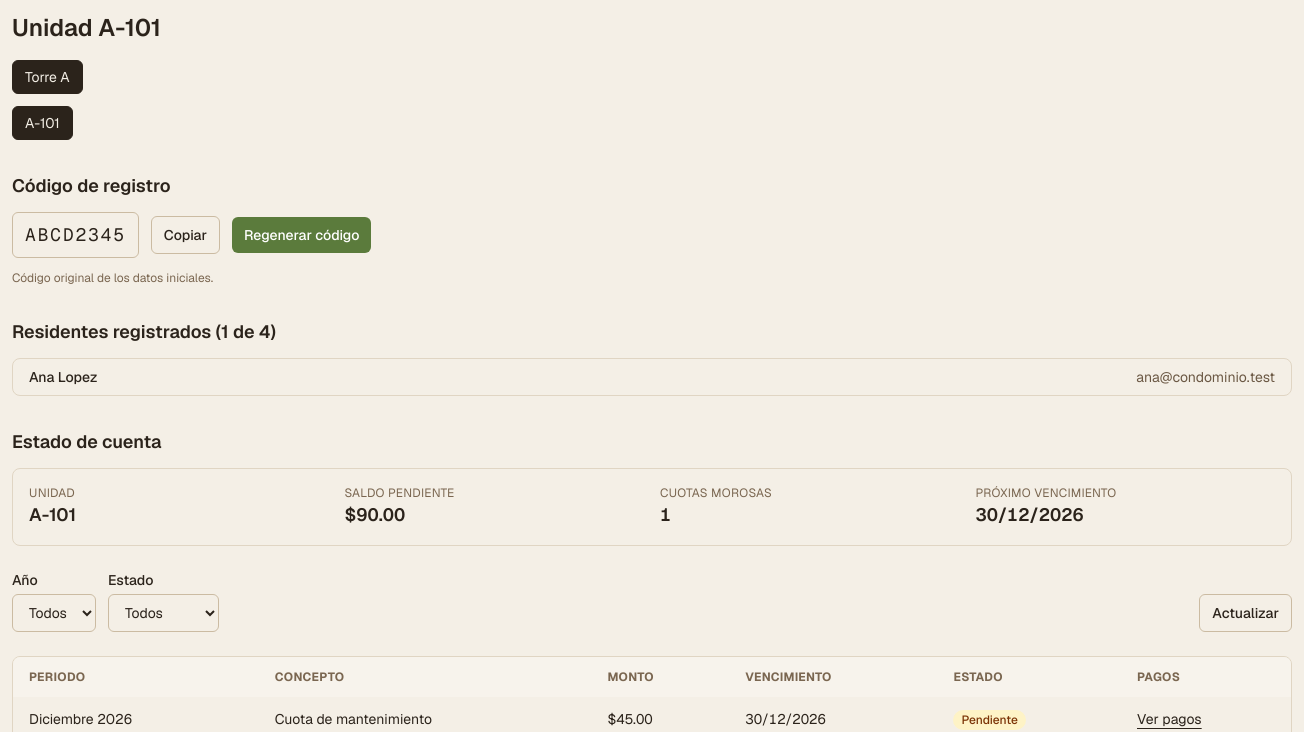
H2. Estado de cuenta de la unidad › AC6: al confirmar muestra el código nuevo con el botón Copiar
Click the button "Regenerar código".
click(302, 235)  # box left=232, top=217, right=372, bottom=253
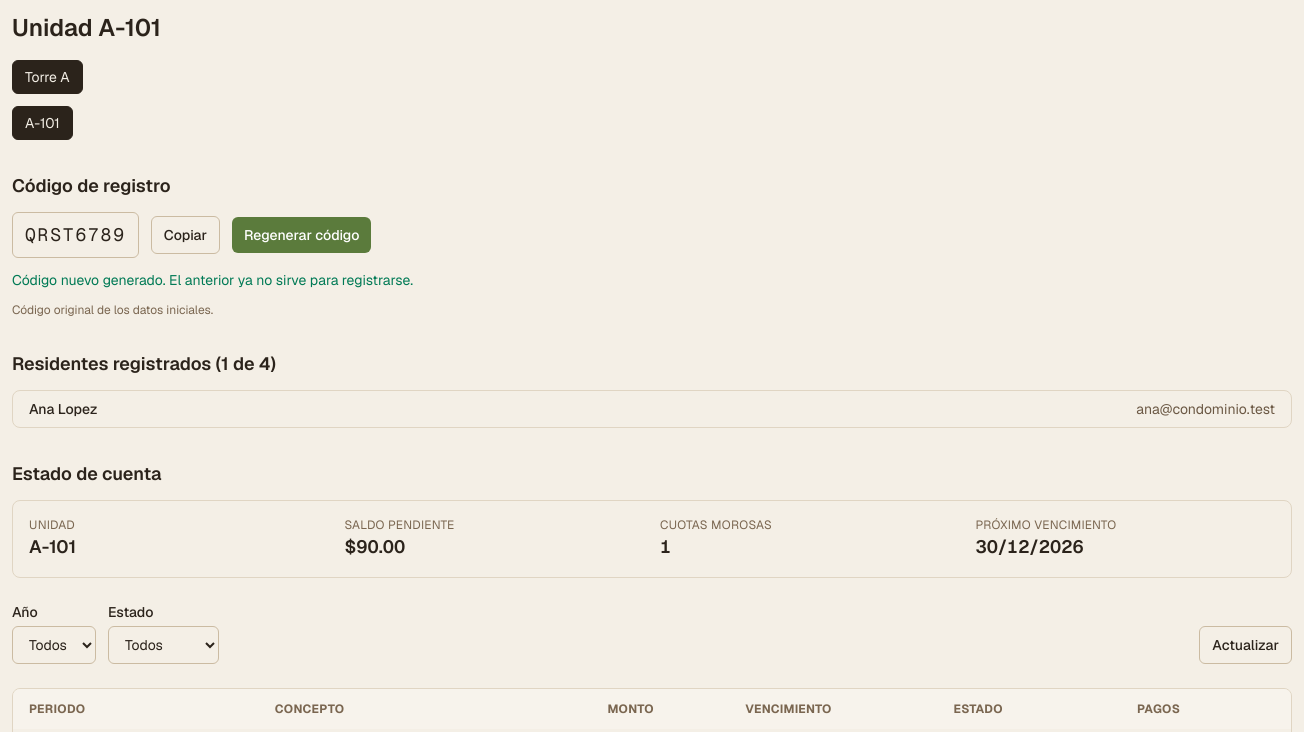
Click the button "Copiar".
click(185, 235)  # box left=151, top=216, right=220, bottom=254
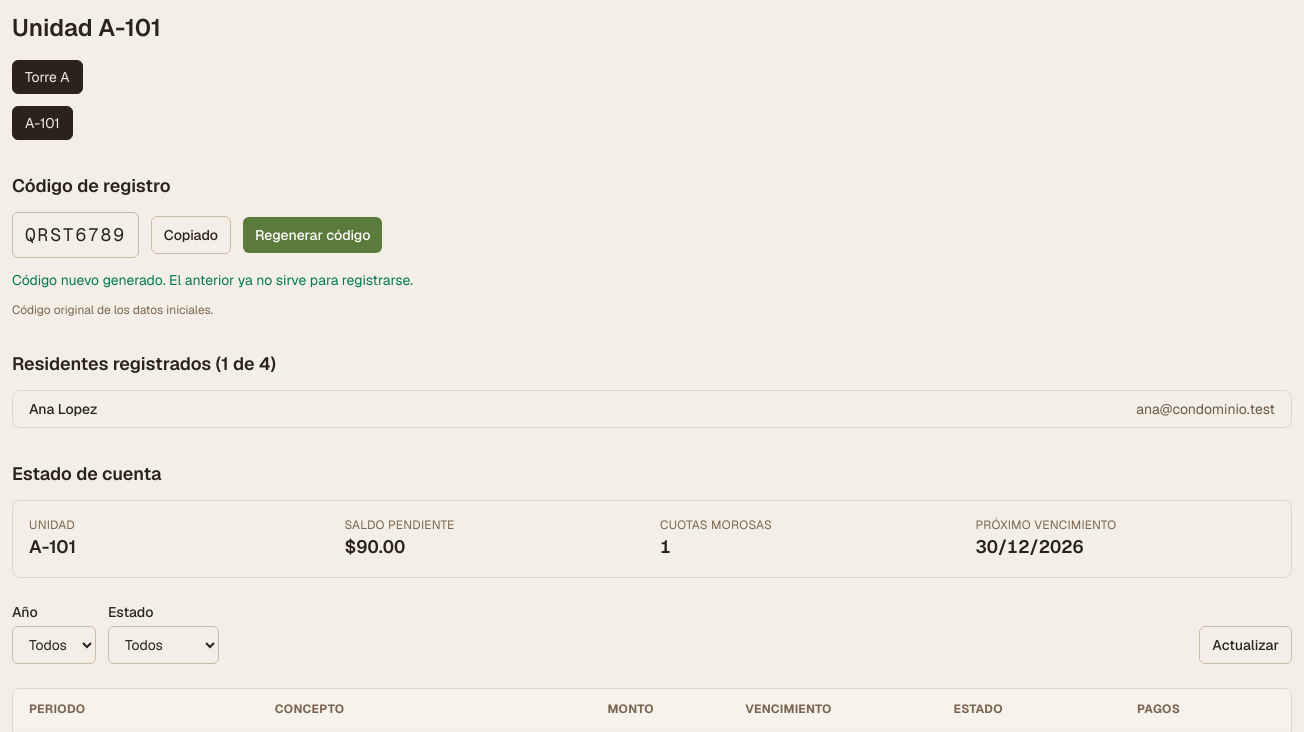
Expected: the text "ABCD2345" is not shown
Now the text "QRST6789" is shown, box left=12, top=212, right=139, bottom=258
Now the button "Copiado" is shown, box left=151, top=216, right=231, bottom=254
